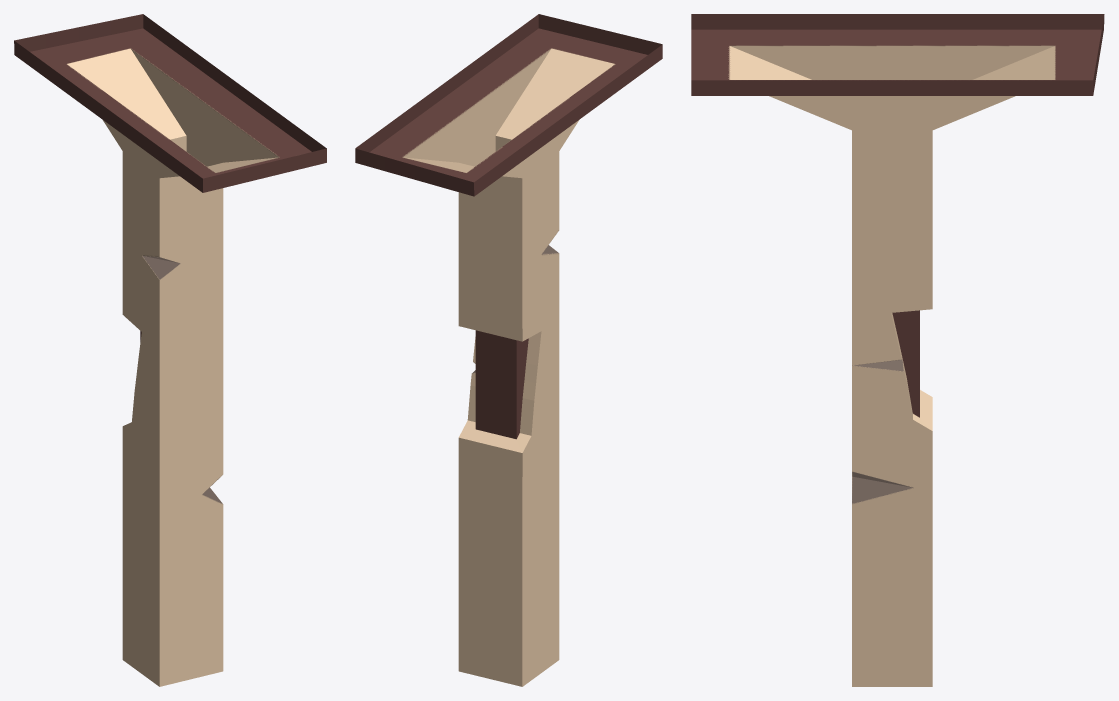
File: bridgeBase.obj
3 renders of one model, left to right at view 1: azimuth 30°, elevation 25°; view 2: azimuth 150°, elevation 25°; view 3: azimuth 270°, elevation 25°, orthographic. The views are drawn at different scales.
Visible parts, largest first — view 1: bridgeBase; view 2: bridgeBase; view 3: bridgeBase.
Part boxes in pixels (x1,y1,x2,y2): bridgeBase: (14, 14, 326, 686); bridgeBase: (355, 14, 662, 686); bridgeBase: (691, 14, 1104, 686).
Bounding box in the file's own units: 3.88 × 17.05 × 10.25.
